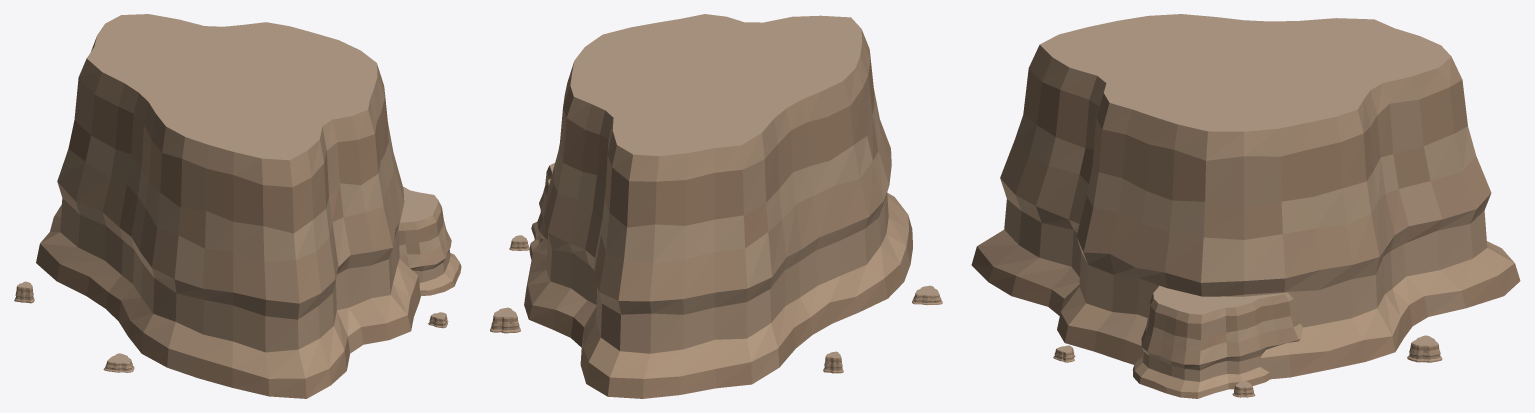
Rendered from CanyonMesa2.glb.
3 views of the same model, side by side, from view 1: azimuth 30°, elevation 25°; view 2: azimuth 150°, elevation 25°; view 3: azimuth 270°, elevation 25° (orthographic). The views are drawn at different scales.
Visible parts, largest first — view 1: Wind cut canyon face.001, Stepped sandstone spur.001, Canyon scree.011; view 2: Wind cut canyon face.001, Stepped sandstone spur.001, Canyon scree.008, Canyon scree.011; view 3: Wind cut canyon face.001, Stepped sandstone spur.001, Canyon scree.008.
Boxes of the visible parts, x1,y1,x2,y2 form: Wind cut canyon face.001: [36, 14, 420, 398]; Stepped sandstone spur.001: [398, 186, 461, 295]; Canyon scree.011: [103, 353, 134, 372]; Wind cut canyon face.001: [524, 14, 912, 398]; Stepped sandstone spur.001: [529, 163, 554, 259]; Canyon scree.008: [490, 307, 520, 333]; Canyon scree.011: [912, 285, 942, 305]; Wind cut canyon face.001: [971, 14, 1520, 379]; Stepped sandstone spur.001: [1133, 285, 1303, 398]; Canyon scree.008: [1407, 335, 1442, 362].
Bounding box in the file's own units: 16.26 × 8.73 × 19.01.
